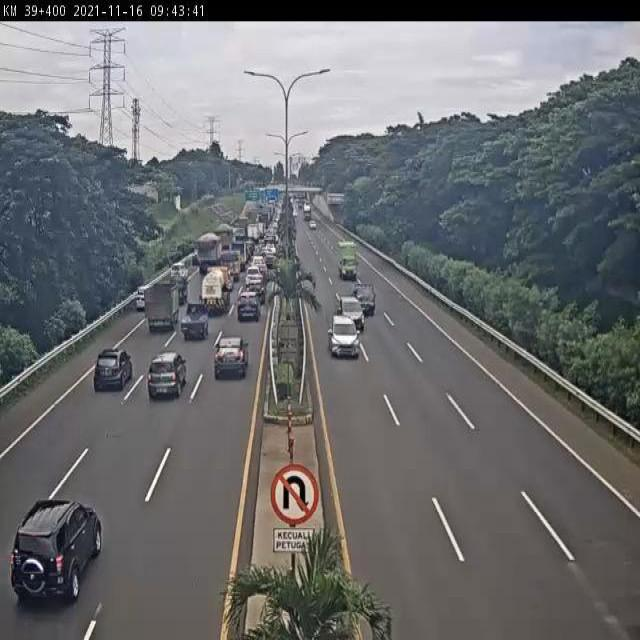car: (8, 490, 105, 614), (146, 347, 189, 404), (91, 346, 136, 398), (213, 335, 252, 384), (178, 300, 212, 345), (327, 316, 359, 357), (235, 292, 263, 327), (335, 295, 363, 328), (351, 281, 375, 315), (167, 274, 189, 306), (244, 275, 267, 304), (132, 281, 147, 315), (167, 262, 188, 286), (244, 265, 264, 288), (251, 253, 266, 272), (187, 248, 200, 269), (264, 251, 278, 268)
small truck: (143, 278, 182, 334), (334, 243, 358, 280), (218, 250, 242, 282)
truck-m-: (200, 265, 231, 316), (195, 234, 223, 278), (212, 223, 232, 252)
